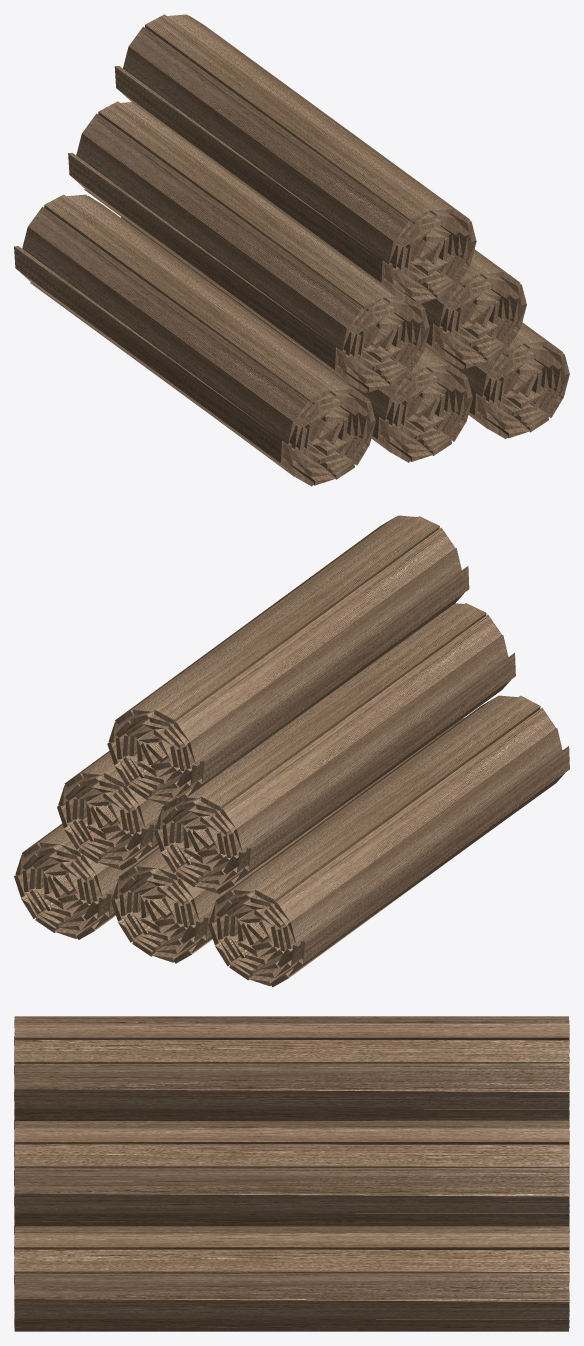
3 views of the same model, one above another, from view 1: azimuth 30°, elevation 25°; view 2: azimuth 150°, elevation 25°; view 3: azimuth 270°, elevation 25° (orthographic). The views are drawn at different scales.
Visible parts, largest first — view 1: QH-竹简; view 2: QH-竹简; view 3: QH-竹简.
Boxes of the visible parts, x1,y1,x2,y2 form: QH-竹简: (14, 14, 569, 486); QH-竹简: (14, 515, 569, 987); QH-竹简: (14, 1016, 569, 1331).
Size of the model in its own units: 0.2101 by 0.333 by 0.1717.
